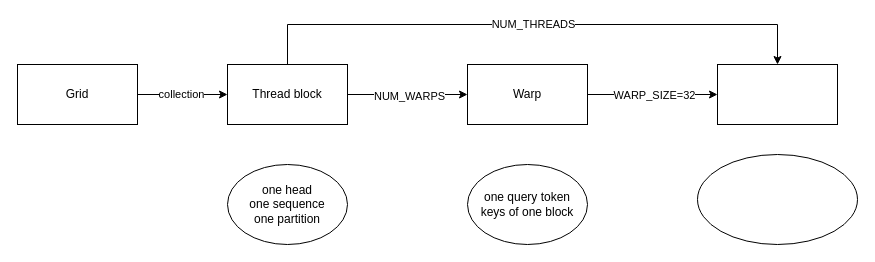
Image size: 875x262. Some labels were removed from this diagram. Each missing label, with the centre of its shape:
Thread: point (777, 94)
Thread group one query one key: point (777, 199)
